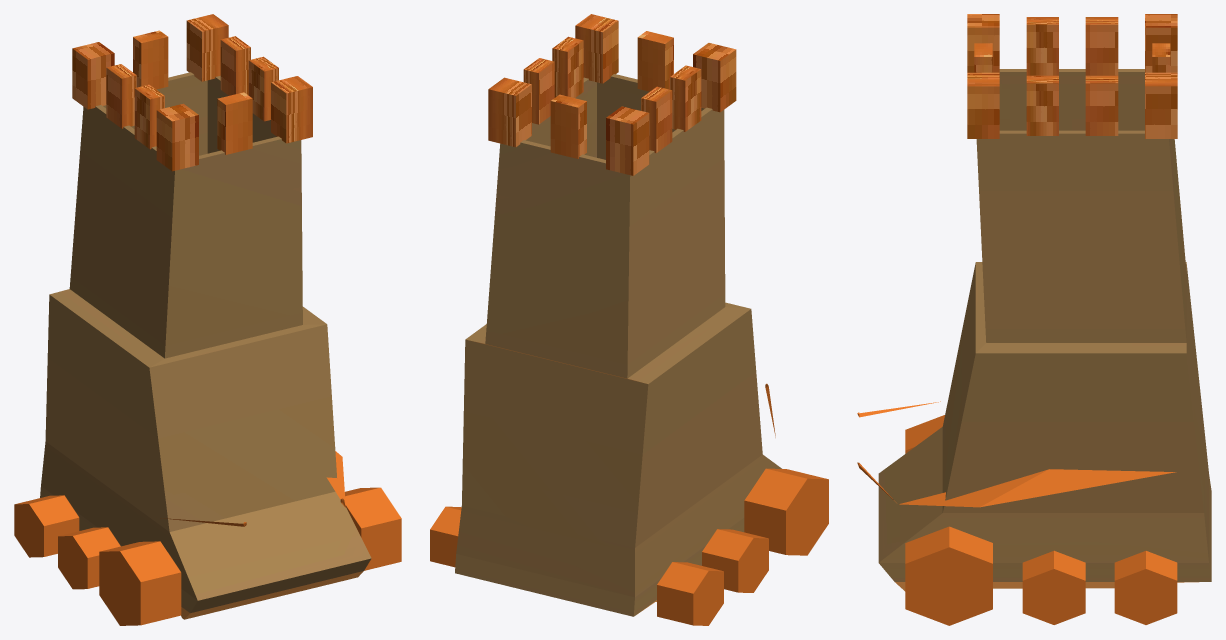
File: ae_siege_tower_open_bronze_lod2.glb
3 views of the same model, side by side, from view 1: azimuth 30°, elevation 25°; view 2: azimuth 150°, elevation 25°; view 3: azimuth 270°, elevation 25° (orthographic). The views are drawn at different scales.
Parts seen in each view (by area): view 1: siege_tower_open; view 2: siege_tower_open; view 3: siege_tower_open.
Part boxes in pixels (bbox=[...]): siege_tower_open: bbox=[14, 14, 401, 625]; siege_tower_open: bbox=[430, 14, 828, 625]; siege_tower_open: bbox=[857, 14, 1211, 625].
Size of the model in its own units: 46.39 by 82.22 by 51.85.
Materials: 4 (3 with a texture image).
